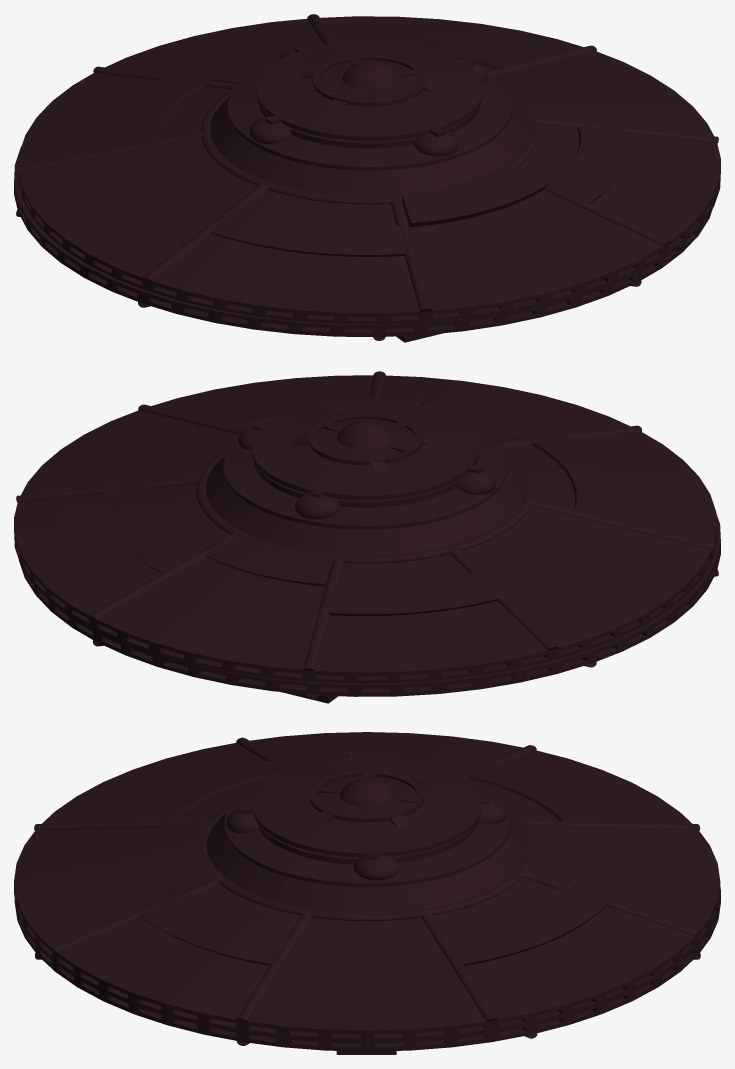
File: UFO1.obj
The picture shows the model from 3 angles, top to bottom: view 1: azimuth 30°, elevation 25°; view 2: azimuth 150°, elevation 25°; view 3: azimuth 270°, elevation 25°; orthographic projection.
Parts seen in each view (by area): view 1: UFO1; view 2: UFO1; view 3: UFO1.
Part boxes in pixels (box(x1,y1,x2,y2)): UFO1: box(14, 14, 720, 342); UFO1: box(14, 371, 720, 703); UFO1: box(14, 732, 720, 1054).
Size of the model in its own units: 4.16 by 1.42 by 4.14.
